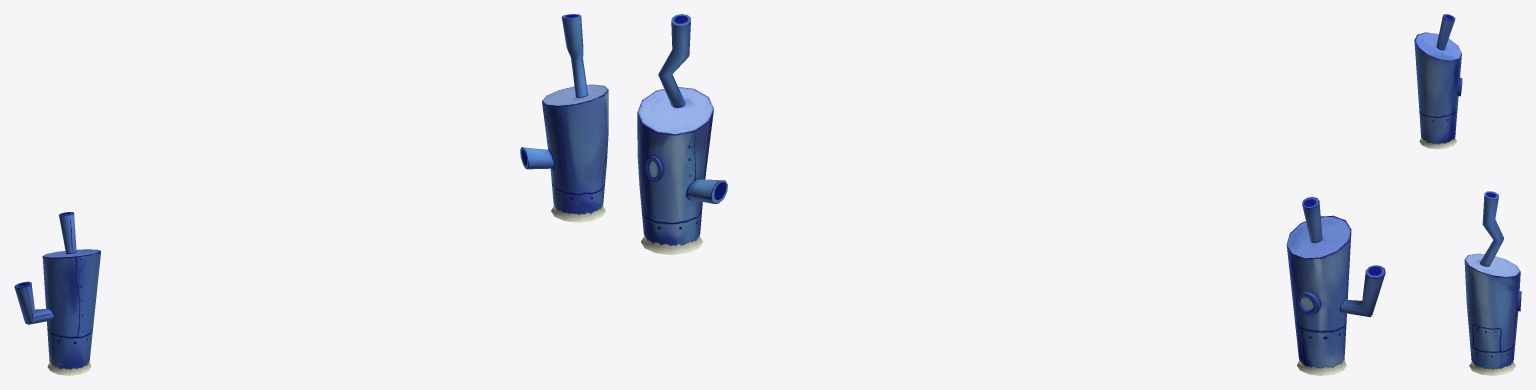
3 renders of one model, left to right at view 1: azimuth 30°, elevation 25°; view 2: azimuth 150°, elevation 25°; view 3: azimuth 270°, elevation 25°, orthographic. The views are drawn at different scales.
Parts seen in each view (by area): view 1: Object_21; view 2: Object_21; view 3: Object_21.
Part boxes in pixels (x1,y1,x2,y2): Object_21: (14, 14, 608, 375); Object_21: (637, 14, 1385, 375); Object_21: (1414, 14, 1521, 375).
Bounding box in the file's own units: 121 × 36.93 × 21.16.
Materials: 1 (1 with a texture image).
